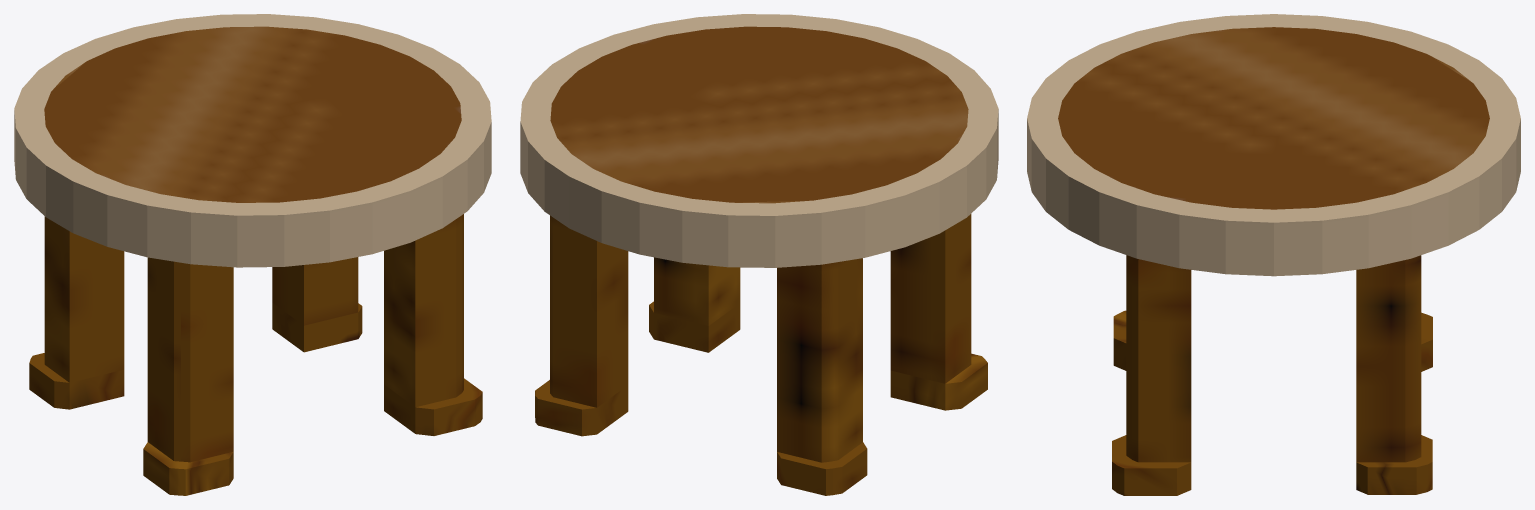
Rendered from table_633x04.obj.
The picture shows the model from 3 angles, left to right: view 1: azimuth 30°, elevation 25°; view 2: azimuth 150°, elevation 25°; view 3: azimuth 270°, elevation 25°; orthographic projection. The views are drawn at different scales.
Parts seen in each view (by area): view 1: Table_633x4; view 2: Table_633x4; view 3: Table_633x4.
Part boxes in pixels (x1,y1,x2,y2): Table_633x4: [14, 14, 491, 495]; Table_633x4: [520, 14, 998, 495]; Table_633x4: [1027, 14, 1520, 495].
Bounding box in the file's own units: 3 × 2 × 3.
